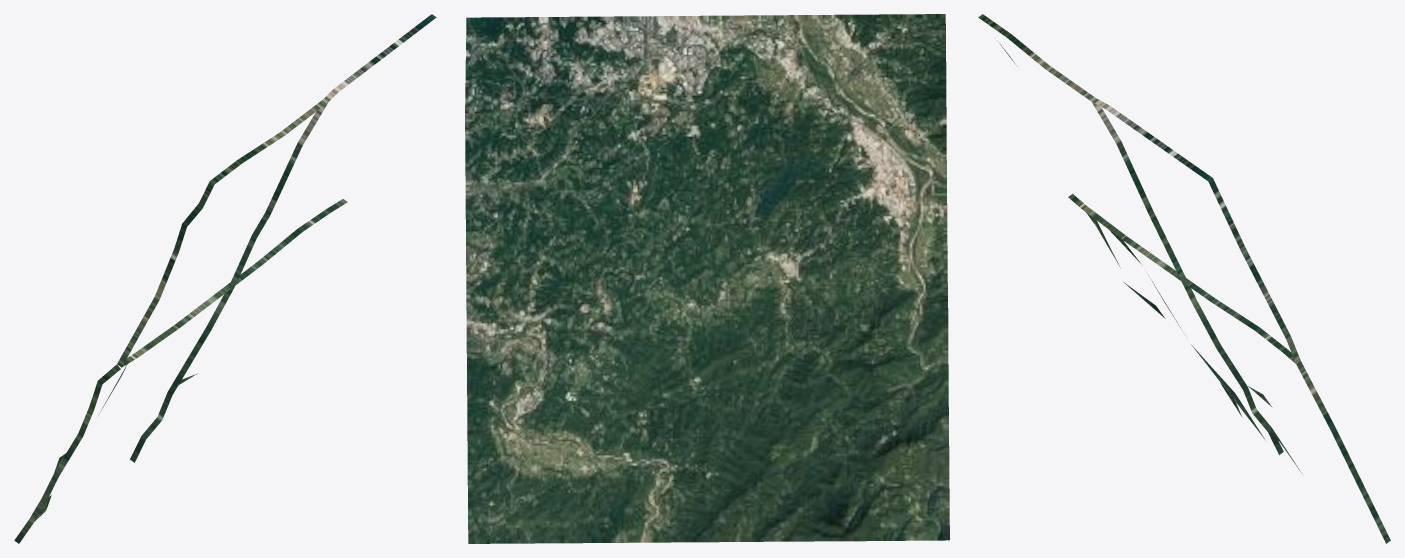
The picture shows the model from 3 angles, left to right: view 1: azimuth 30°, elevation 25°; view 2: azimuth 150°, elevation 25°; view 3: azimuth 270°, elevation 25°; orthographic projection. The views are drawn at different scales.
Bounding box in the file's own units: 19965 × 17943 × 16383.
Materials: 1 (1 with a texture image).
